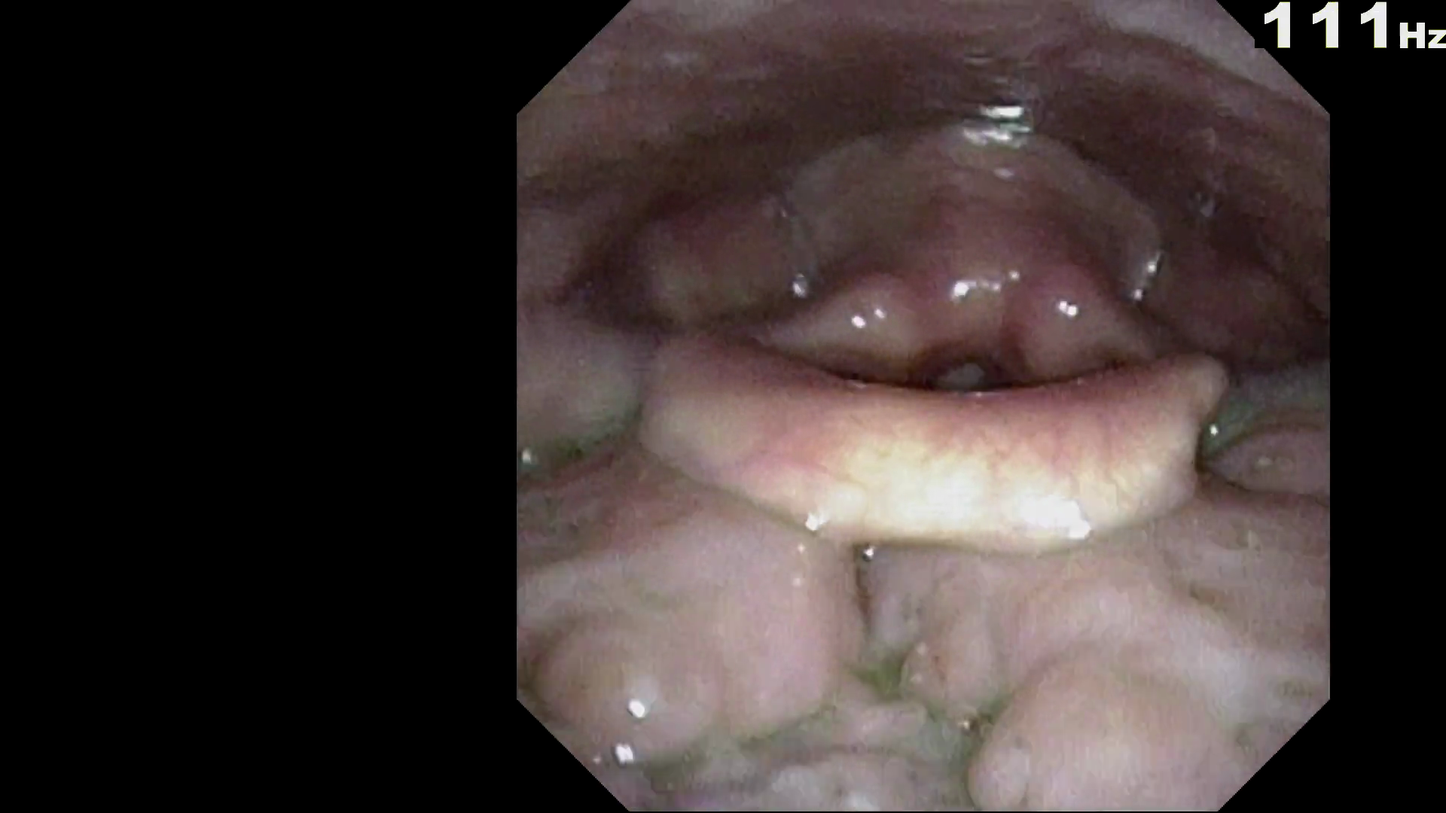epiglottis: (638, 334, 1228, 554)
trachea: (920, 324, 1026, 446)
